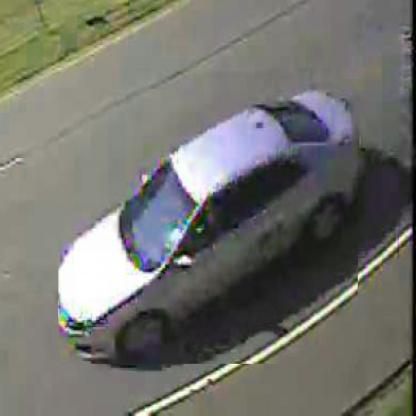car: (58, 90, 359, 366)
